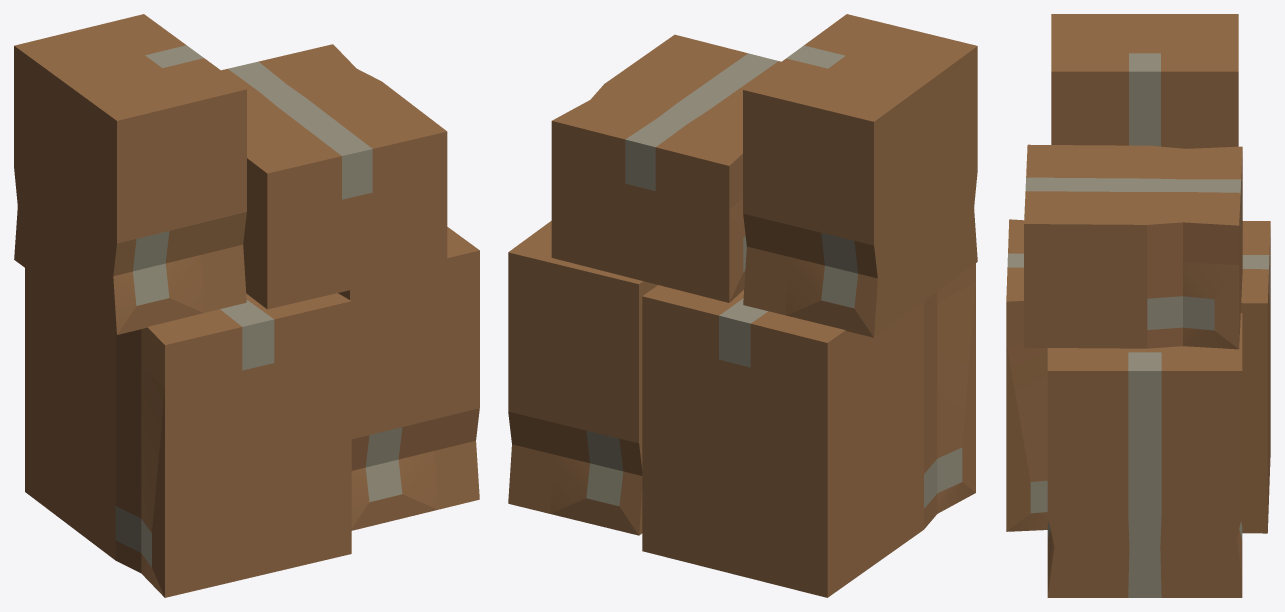
Rendered from Cardboard Boxes.glb.
The picture shows the model from 3 angles, left to right: view 1: azimuth 30°, elevation 25°; view 2: azimuth 150°, elevation 25°; view 3: azimuth 270°, elevation 25°; orthographic projection. The views are drawn at different scales.
Visible parts, largest first — view 1: 3DGeom-1, 3DGeom-2; view 2: 3DGeom-1, 3DGeom-2; view 3: 3DGeom-1, 3DGeom-2.
Part boxes in pixels (bbox=[...]): 3DGeom-1: bbox=[14, 14, 479, 597]; 3DGeom-2: bbox=[115, 45, 402, 567]; 3DGeom-1: bbox=[508, 14, 977, 597]; 3DGeom-2: bbox=[586, 45, 962, 508]; 3DGeom-1: bbox=[1006, 14, 1270, 597]; 3DGeom-2: bbox=[1007, 53, 1269, 597].
Bounding box in the file's own units: 1.15 × 1.42 × 0.7989.
